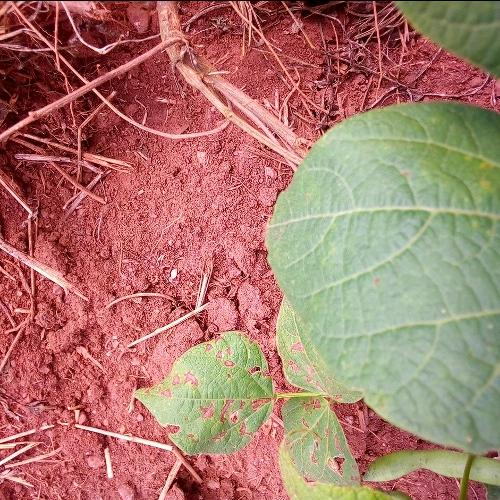hawar: (178, 366, 266, 431), (201, 342, 242, 366)
sehat: (322, 158, 489, 342)
